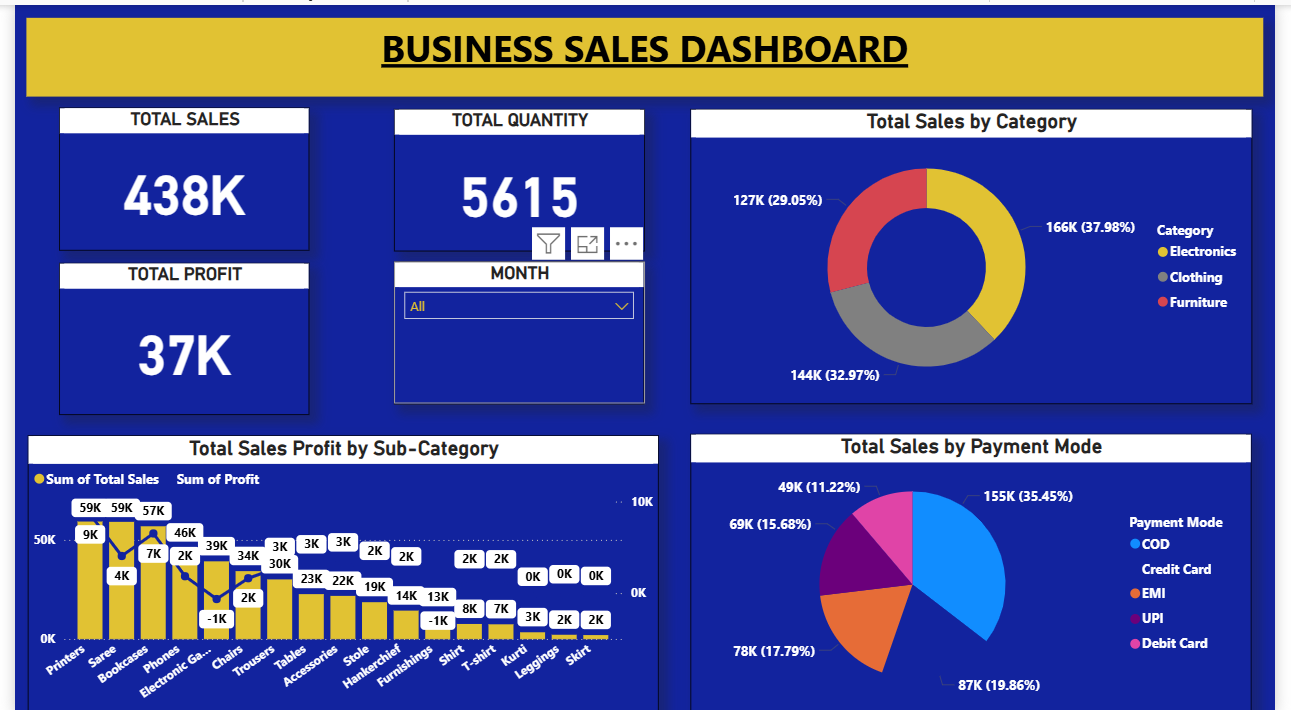

This screenshot's page, from the dashboard's own definition file:
{"tool":"powerbi","page":{"name":"Page 1","canvas":[1280,720],"ordinal":0},"visuals":[{"type":"textbox","box":[11.6,13,1255.9,79.9],"z":0},{"type":"card","title":"TOTAL SALES","fields":{"Values":["Sum(ecommerce dataset.Total Sales)"]},"box":[45.1,104.7,254.4,145.4],"z":1000},{"type":"card","title":"TOTAL PROFIT","fields":{"Values":["Sum(ecommerce dataset.Profit)"]},"box":[45.1,261.7,254.4,154.1],"z":2000},{"type":"card","title":"TOTAL QUANTITY","fields":{"Values":["Sum(ecommerce dataset.Quantity)"]},"box":[385,105.6,254.7,144.7],"z":3000},{"type":"slicer","title":"MONTH","fields":{"Values":["ecommerce dataset (2).Order Date.Variation.Date Hierarchy.Month"]},"box":[385.2,260.2,254.4,145.4],"z":4000},{"type":"lineStackedColumnComboChart","title":"Total Sales Profit by Sub-Category","fields":{"Y":["Sum(ecommerce dataset.Total Sales)"],"Category":["ecommerce dataset.Sub-Category"],"Y2":["Sum(ecommerce dataset.Profit)"]},"box":[13.1,437.5,641,282],"z":5000},{"type":"pieChart","title":"Total Sales by Payment Mode","fields":{"Y":["Sum(ecommerce dataset.Total Sales)"],"Category":["ecommerce dataset.PaymentMode"]},"box":[686.1,436.1,569.8,283.5],"z":6000},{"type":"donutChart","title":"Total Sales by Category","fields":{"Category":["ecommerce dataset.Category"],"Y":["Sum(ecommerce dataset.Total Sales)"]},"box":[686,105.6,570.2,299.6],"z":7000}]}

Visuals, with their boxes in screenshot pixels (x1, y1, x2, y2), scaled from the page's 1280x720 canvas onto the 1291x710 screenshot:
textbox: <region>12, 13, 1278, 92</region>
"TOTAL SALES" card: <region>45, 103, 302, 247</region>
"TOTAL PROFIT" card: <region>45, 258, 302, 410</region>
"TOTAL QUANTITY" card: <region>388, 104, 645, 247</region>
"MONTH" slicer: <region>389, 257, 645, 400</region>
"Total Sales Profit by Sub-Category" lineStackedColumnComboChart: <region>13, 431, 660, 709</region>
"Total Sales by Payment Mode" pieChart: <region>692, 430, 1267, 709</region>
"Total Sales by Category" donutChart: <region>692, 104, 1267, 400</region>
